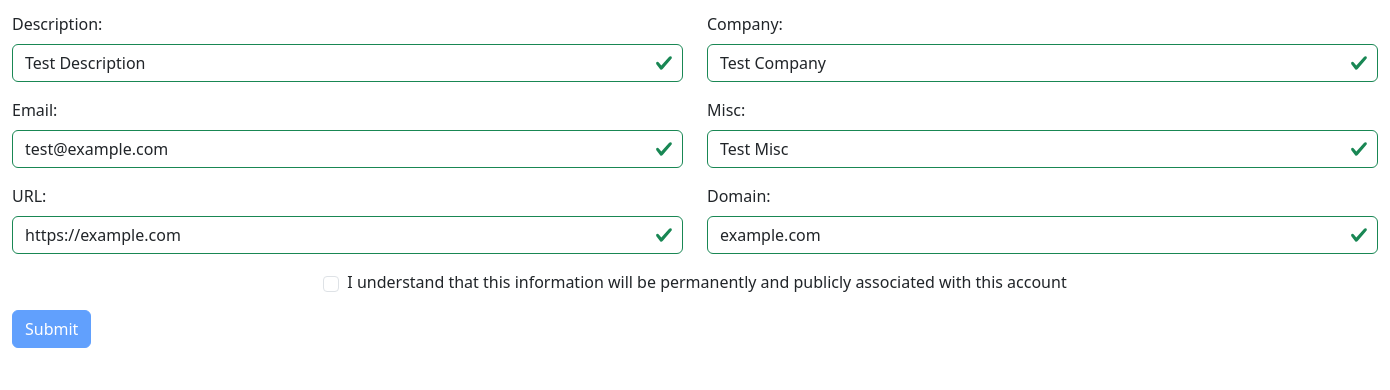
Test: EditAccountForm › validates email format
Replace the text in the field labelled "Email:" with "invalid-email" at (348, 149), box [12,130,683,168]
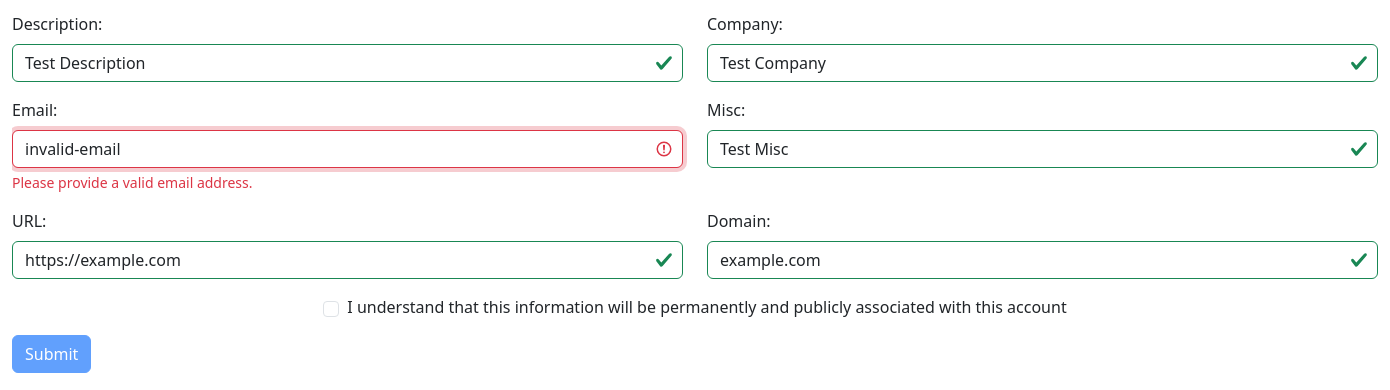
Check: the text "Please provide a valid email address." is shown, box [12,173,252,192]
